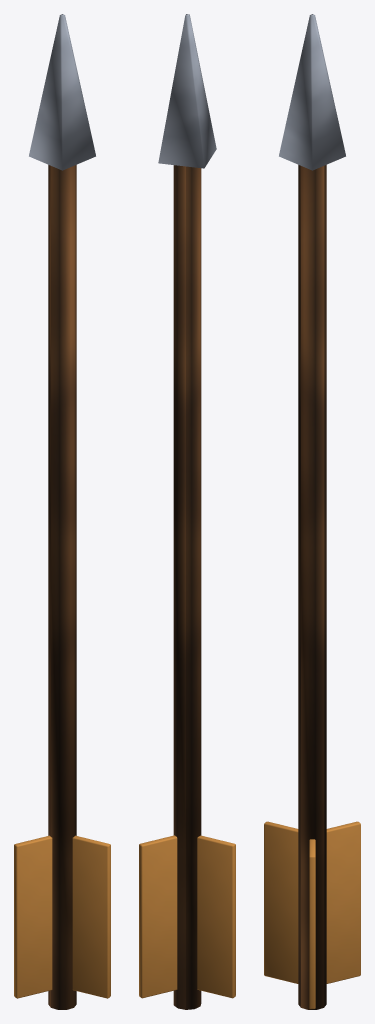
The model's file is arrow.glb.
The picture shows the model from 3 angles, left to right: view 1: azimuth 90°, elevation 25°; view 2: azimuth 210°, elevation 25°; view 3: azimuth 270°, elevation 25°; orthographic projection.
Parts seen in each view (by area): view 1: Shaft, Fletch.001, Fletch.002, ArrowHead; view 2: Shaft, Fletch.001, Fletch, ArrowHead; view 3: Shaft, ArrowHead, Fletch.001, Fletch.002, Fletch.
Boxes of the visible parts, box(x1,y1,x2,y2) form: Shaft: box(48, 165, 76, 1009); Fletch.001: box(14, 835, 52, 998); Fletch.002: box(72, 835, 110, 998); ArrowHead: box(29, 14, 95, 170); Shaft: box(173, 165, 201, 1009); Fletch.001: box(197, 835, 235, 998); Fletch: box(139, 835, 177, 998); ArrowHead: box(158, 14, 216, 168); Shaft: box(298, 165, 326, 1009); ArrowHead: box(279, 14, 345, 170); Fletch.001: box(326, 821, 360, 983); Fletch.002: box(264, 821, 298, 983); Fletch: box(309, 839, 315, 1008).
Size of the model in its own units: 0.068 by 0.84 by 0.0744.
Materials: 3 (3 with a texture image).
